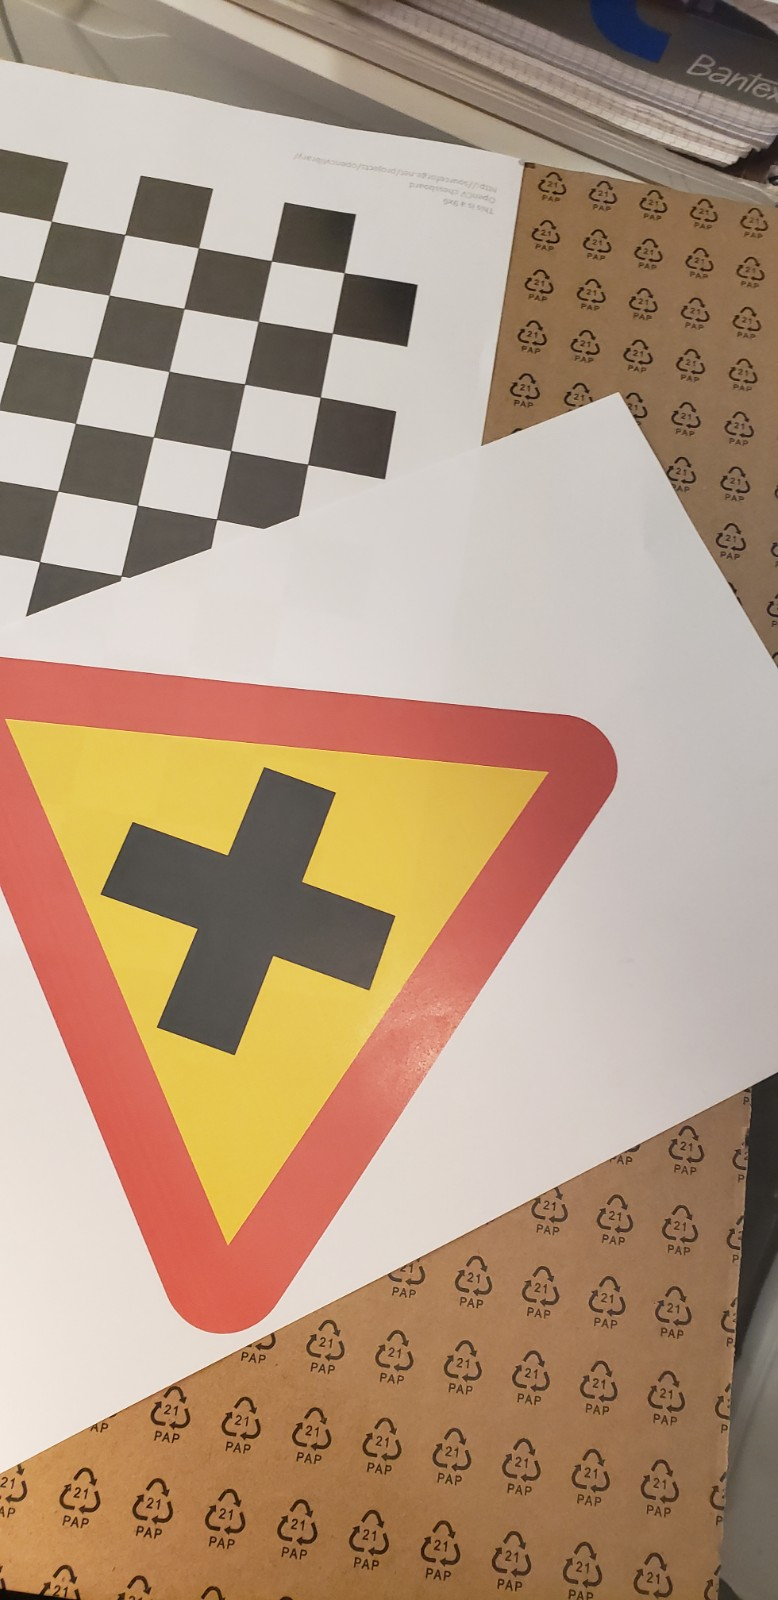junction: (7, 545, 710, 1406)
